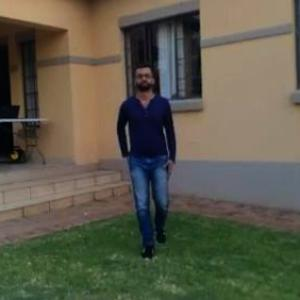follow: (117, 53, 176, 231)
